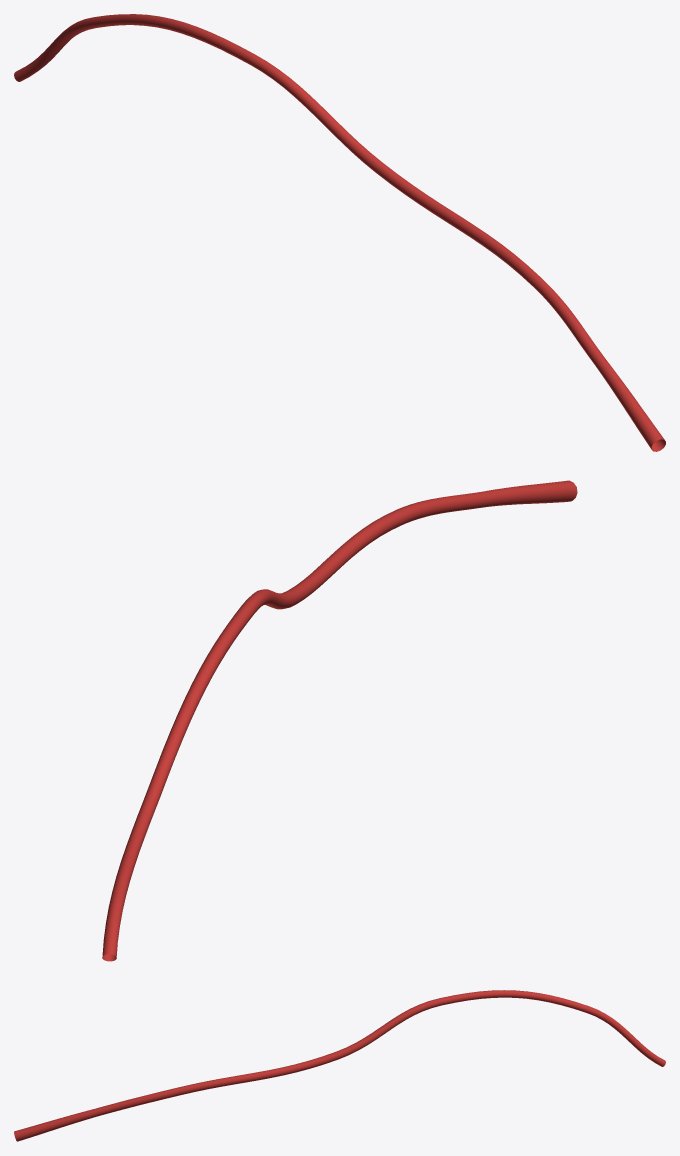
3 renders of one model, top to bottom at view 1: azimuth 30°, elevation 25°; view 2: azimuth 150°, elevation 25°; view 3: azimuth 270°, elevation 25°, orthographic. The views are drawn at different scales.
Visible parts, largest first — view 1: 右侧尺侧上副动脉; view 2: 右侧尺侧上副动脉; view 3: 右侧尺侧上副动脉.
Boxes of the visible parts, x1,y1,x2,y2 form: 右侧尺侧上副动脉: (14, 14, 665, 451); 右侧尺侧上副动脉: (102, 480, 577, 961); 右侧尺侧上副动脉: (14, 990, 665, 1141).
Bounding box in the file's own units: 0.0327 × 0.0357 × 0.1766.
